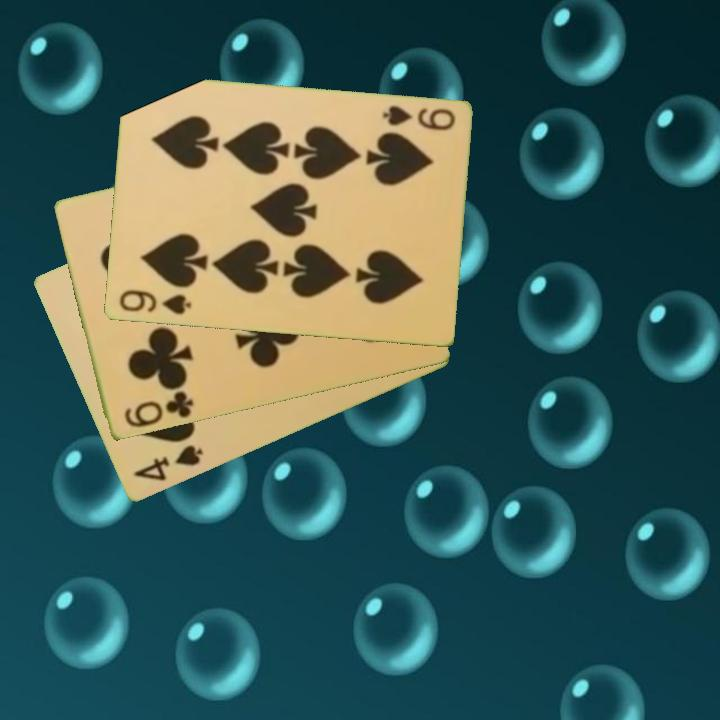4s: (130, 442, 206, 485)
6c: (120, 388, 196, 431)
9s: (378, 103, 458, 134), (115, 287, 194, 318)
